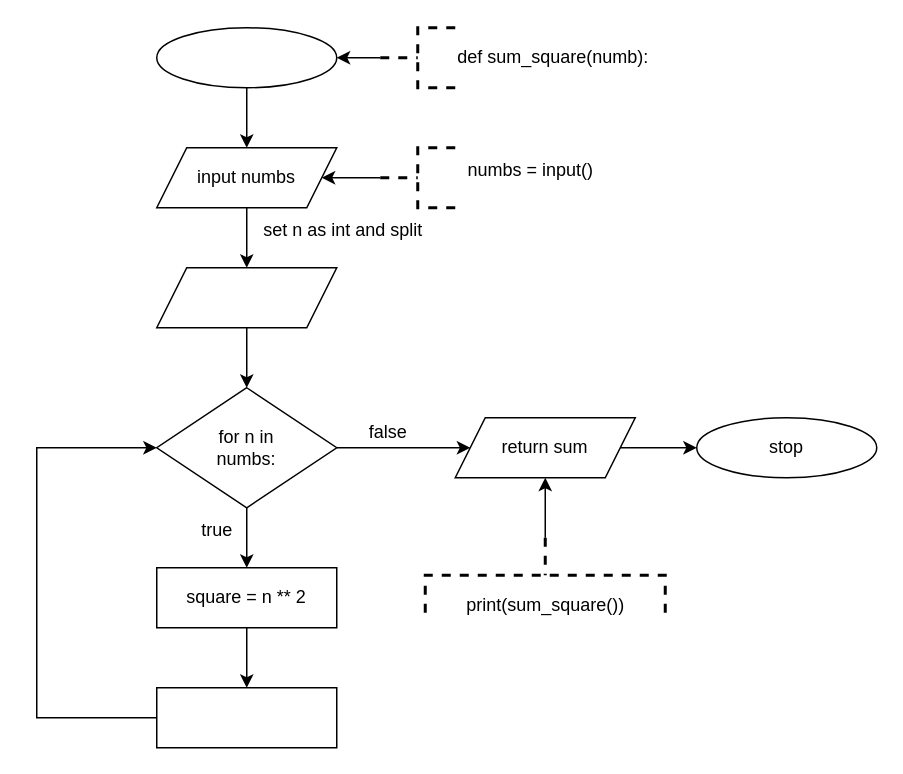
Some shapes in this 903 by 774 pixel diagram are drawn without their labels. The shapes that lost their labels are listed below. From the top down, each one's centre as x and y in pixels, then its label:
pixel 246 57: start
pixel 246 297: sums = 0
pixel 246 717: sums = square + sums
